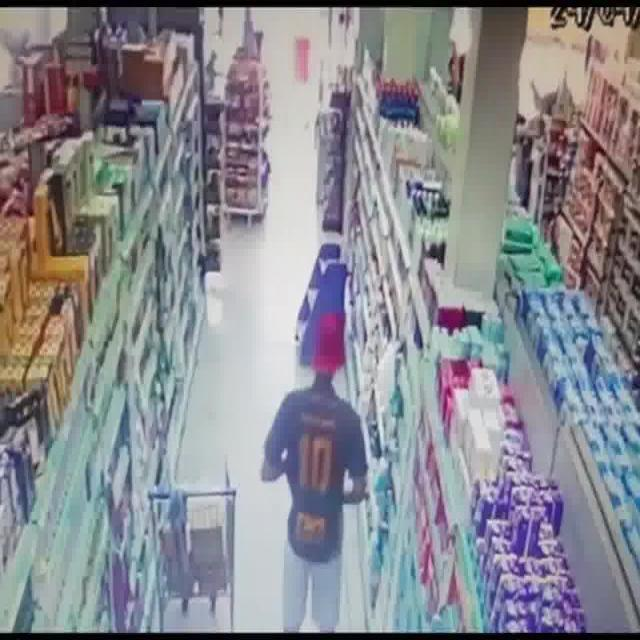persone: (250, 286, 374, 608)
